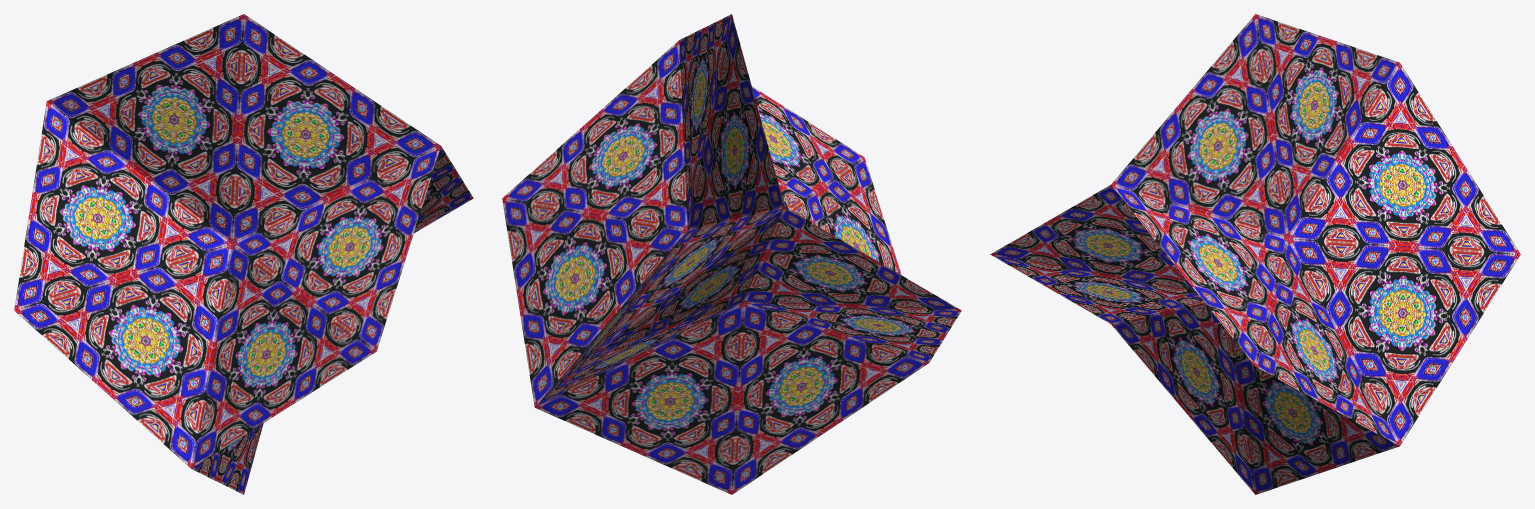
The model's file is Mobius24_16.obj.
The picture shows the model from 3 angles, left to right: view 1: azimuth 30°, elevation 25°; view 2: azimuth 150°, elevation 25°; view 3: azimuth 270°, elevation 25°; orthographic projection.
Size of the model in its own units: 2.24 by 2.24 by 2.24.
1 material, 1 textured.
